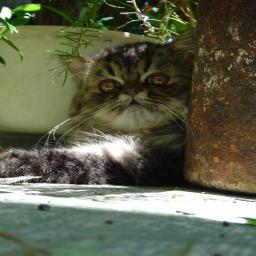catnose: (121, 86, 146, 98)
